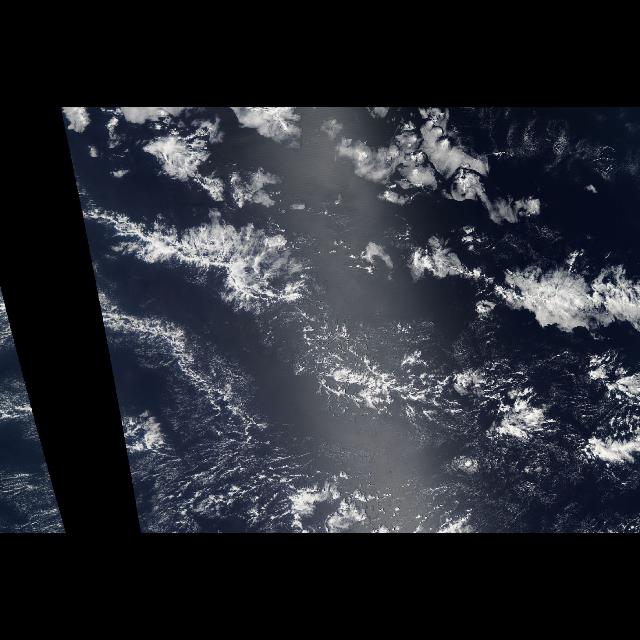Fish: (76, 194, 626, 503)
Flower: (81, 107, 551, 227)
Sugar: (124, 365, 282, 533)
